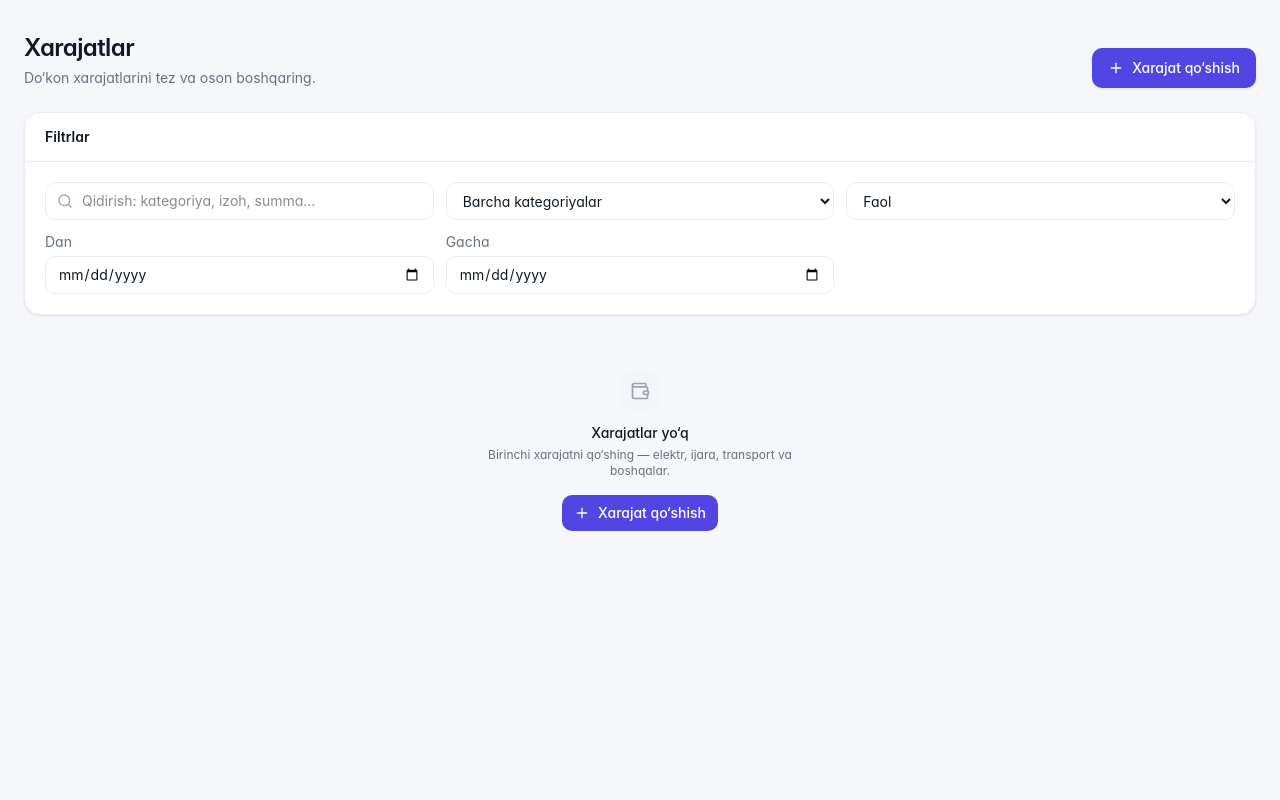
Scenario: ExpensesPage › opens the add expense form and loads categories
Check: the heading "Xarajatlar" is shown, box [24,33,134,62]
Click the 1st button "Xarajat qo‘shish".
click(1174, 68)  # box [1092,48,1256,88]
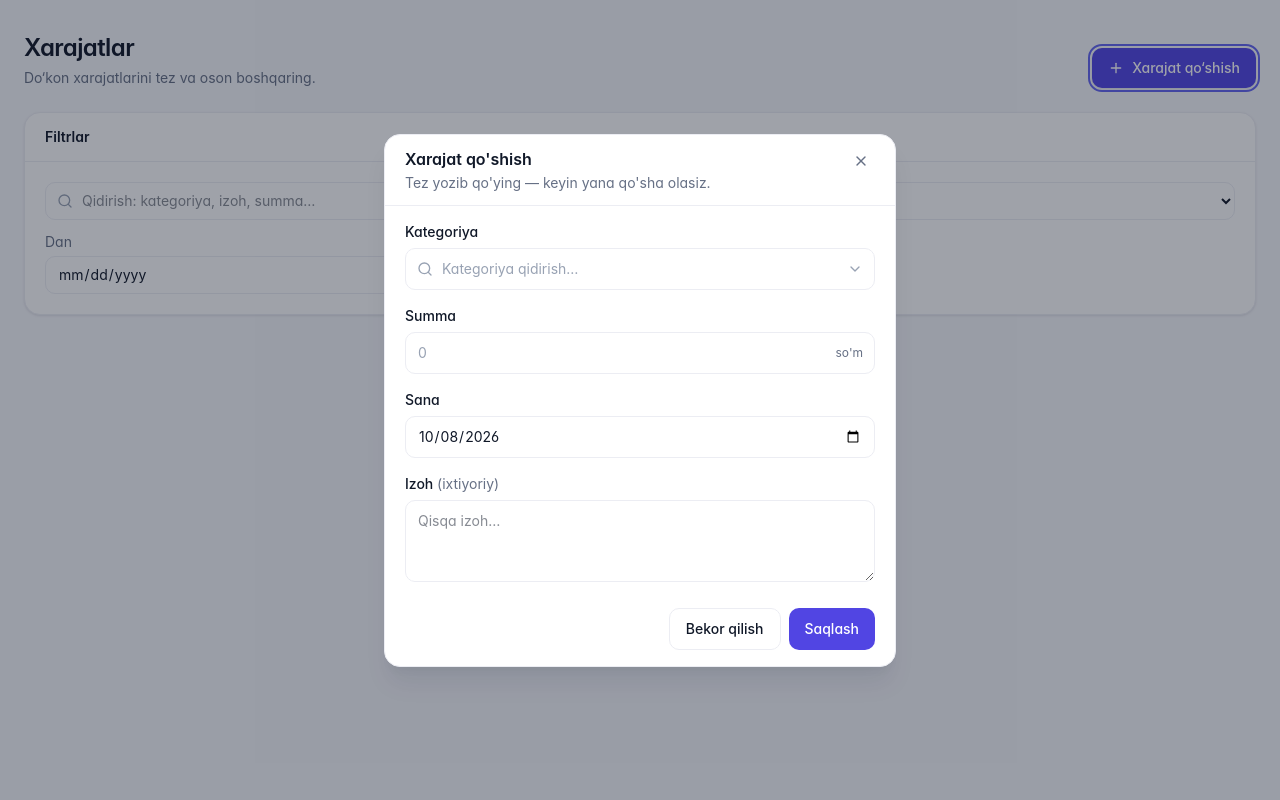
Check: the dialog is shown, box [384,134,896,666]
Check: the dropdown with placeholder "Kategoriya qidirish…" is shown
Check: the field labelled "Summa" is shown, box [405,332,875,374]
Click the dropdown with placeholder "Kategoriya qidirish…".
click(640, 268)  # box [405,248,875,290]
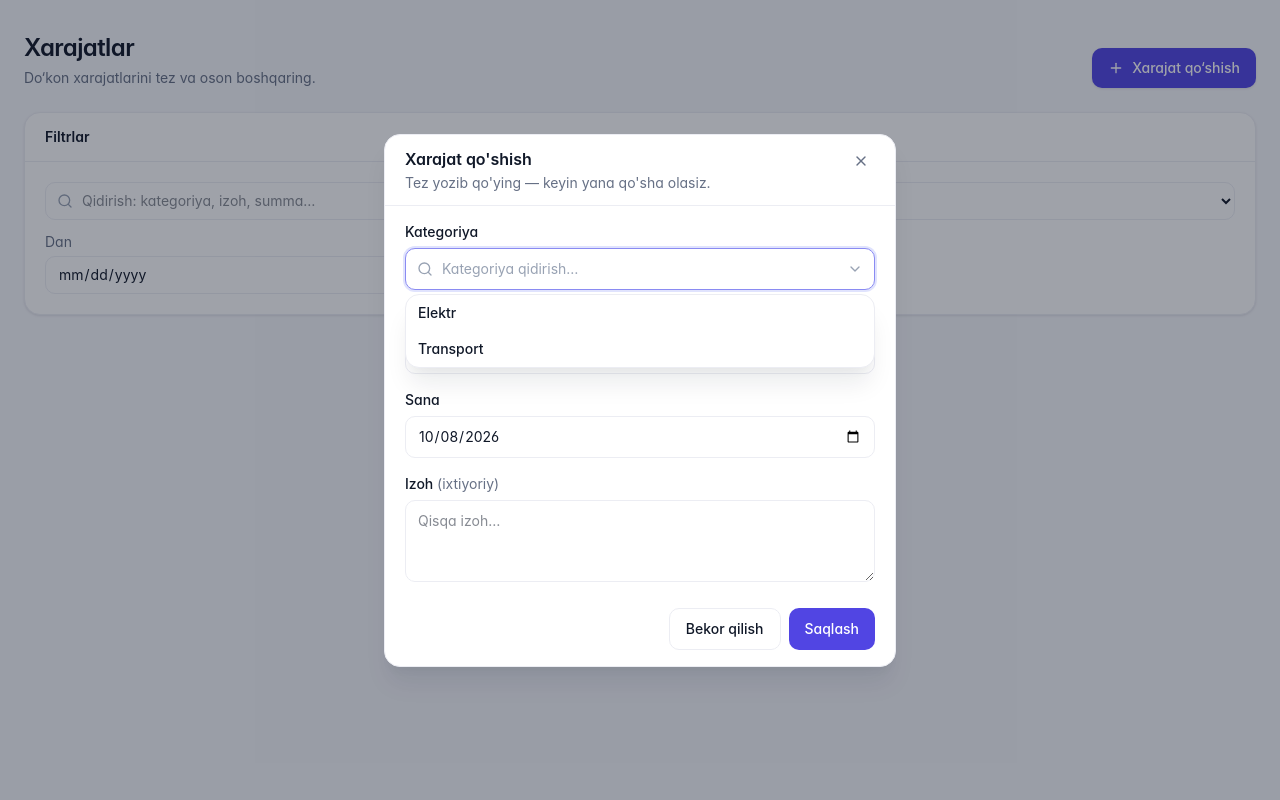
Check: the button "Elektr" is shown, box [406,294,874,330]
Check: the button "Transport" is shown, box [406,330,874,366]
